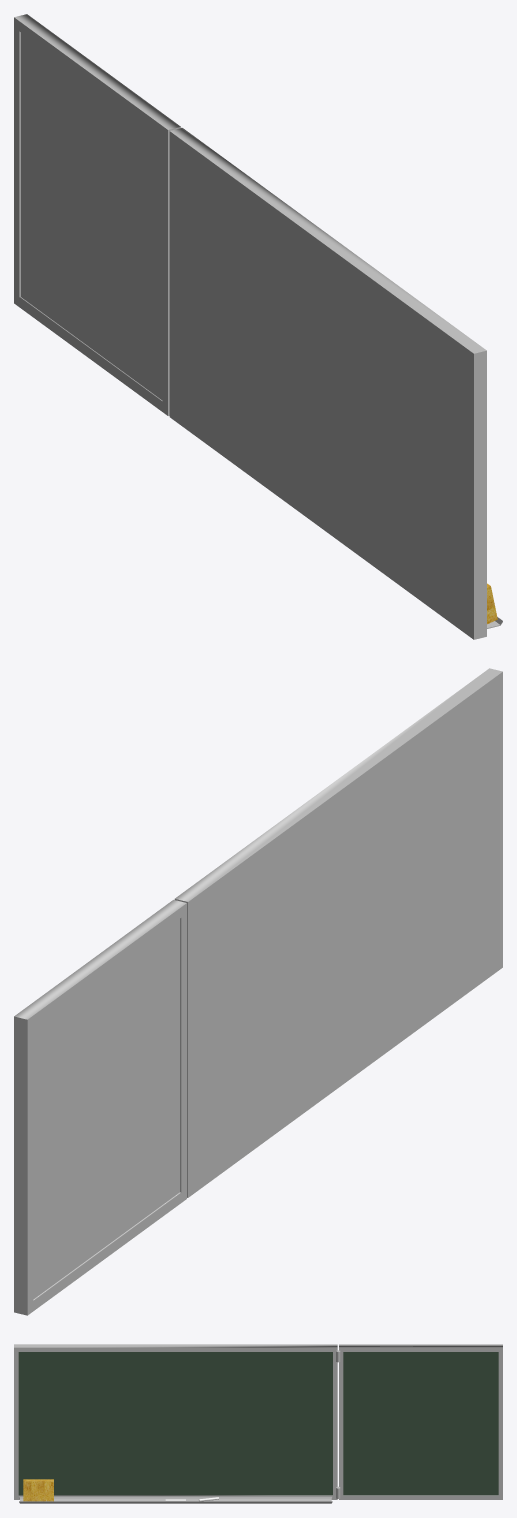
The model's file is tablica_prawa.fbx.
The picture shows the model from 3 angles, top to bottom: view 1: azimuth 30°, elevation 25°; view 2: azimuth 150°, elevation 25°; view 3: azimuth 270°, elevation 25°; orthographic projection. The views are drawn at different scales.
Visible parts, largest first — view 1: Tablica.002; view 2: Tablica.002; view 3: Tablica.002.
Boxes of the visible parts, x1,y1,x2,y2 form: Tablica.002: [14, 14, 502, 639]; Tablica.002: [14, 668, 502, 1315]; Tablica.002: [14, 1344, 502, 1503].
Bounding box in the file's own units: 32.73 × 264 × 769.
4 materials, 1 textured.
